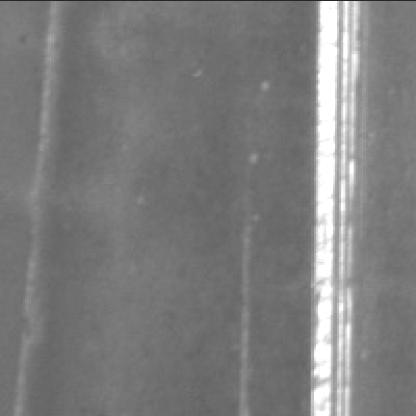scratches: (10, 4, 68, 406), (314, 0, 368, 414), (242, 198, 266, 412)
